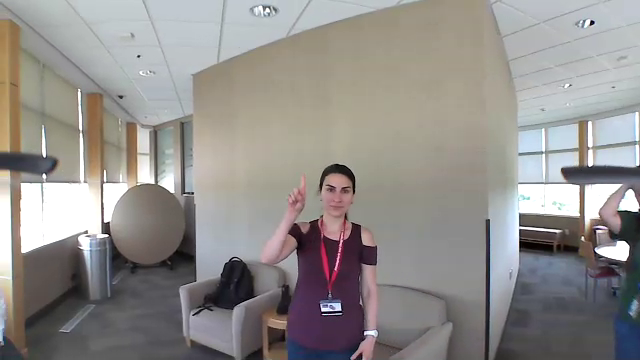up: (283, 166, 314, 218)
